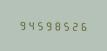eight: (53, 19, 61, 31)
five: (35, 19, 43, 30), (62, 20, 70, 31)
four: (26, 19, 34, 30)
nine: (17, 19, 25, 30), (44, 19, 52, 30)
six: (80, 20, 88, 31)
two: (71, 20, 79, 31)
